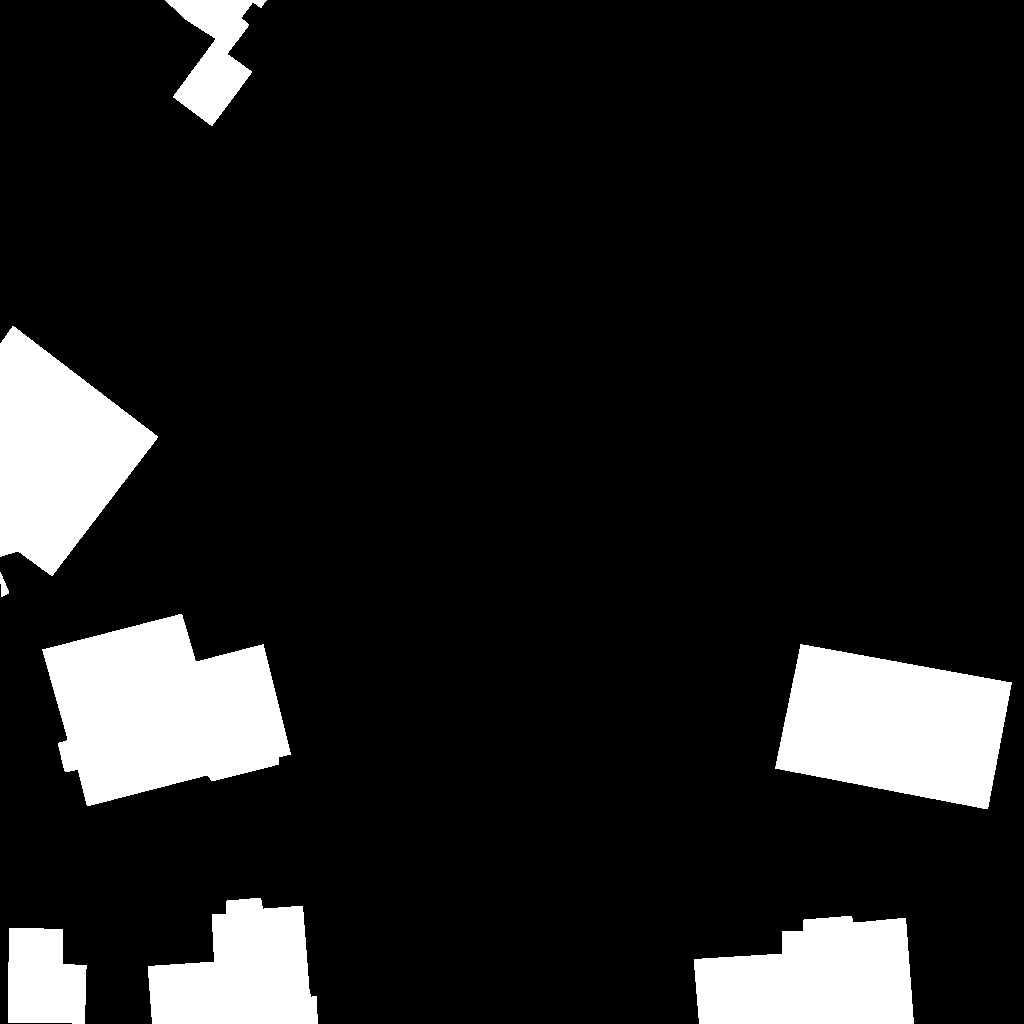building: (42, 614, 292, 807), (0, 326, 159, 598), (775, 644, 1013, 810), (694, 916, 915, 1024), (148, 898, 319, 1024), (165, 0, 268, 127), (8, 928, 87, 1024)
